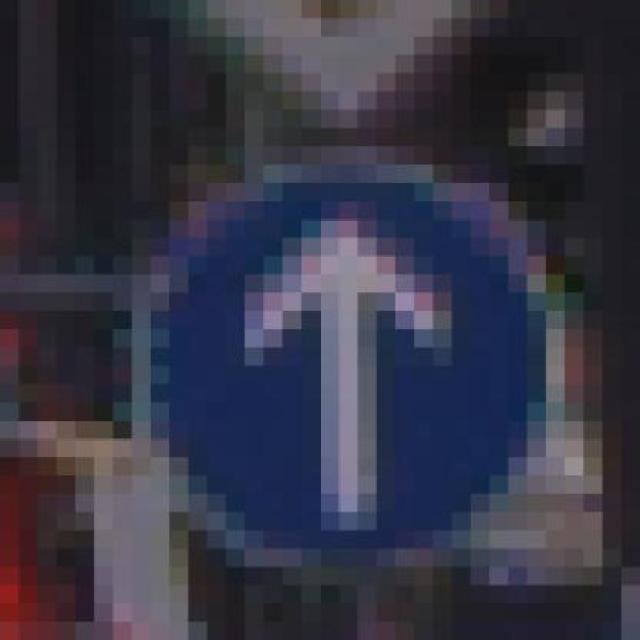Straight Ahead Only: (132, 146, 566, 603)
